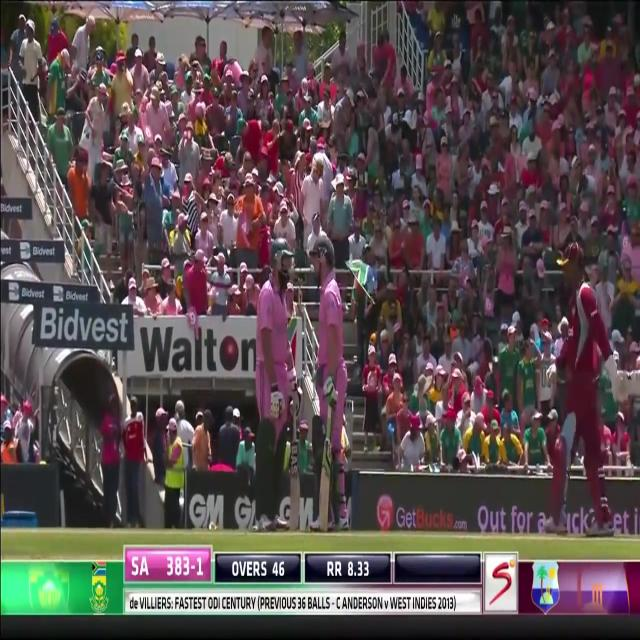Ball: (308, 234, 354, 534)
